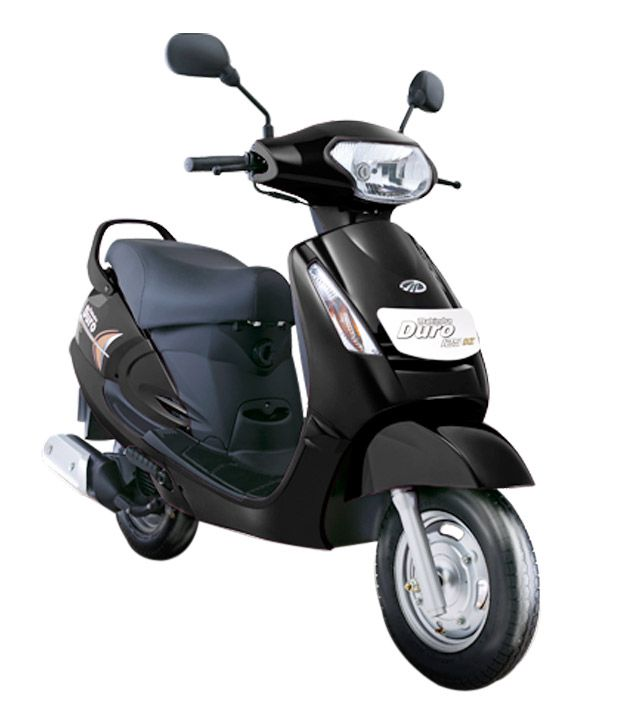Bike: (63, 122, 557, 695)
